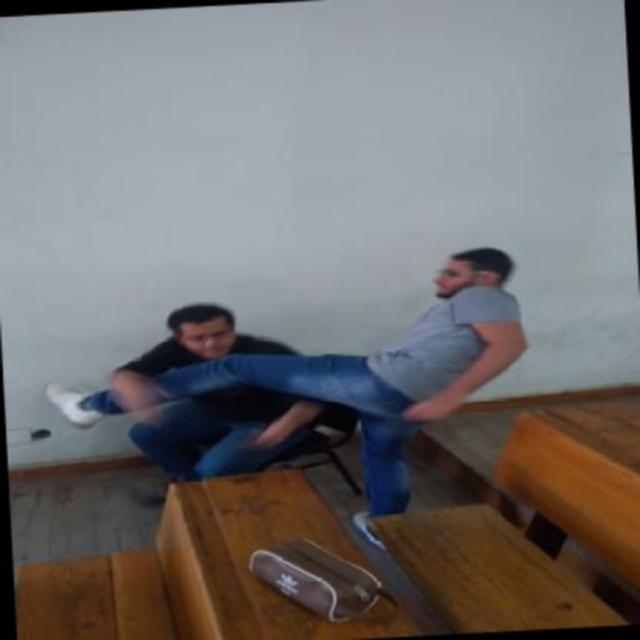fight: (44, 243, 536, 452)
